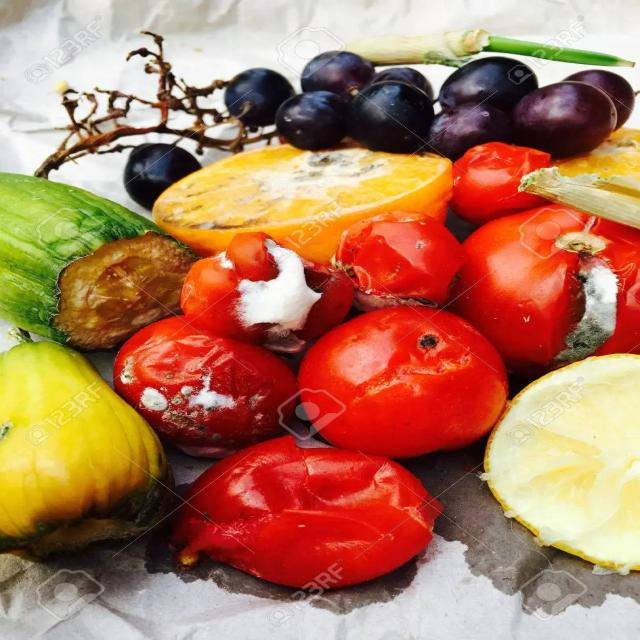Wet Waste: (50, 452, 298, 603), (475, 216, 640, 394), (121, 326, 289, 467), (179, 248, 386, 348), (201, 145, 395, 247), (44, 230, 200, 356)
